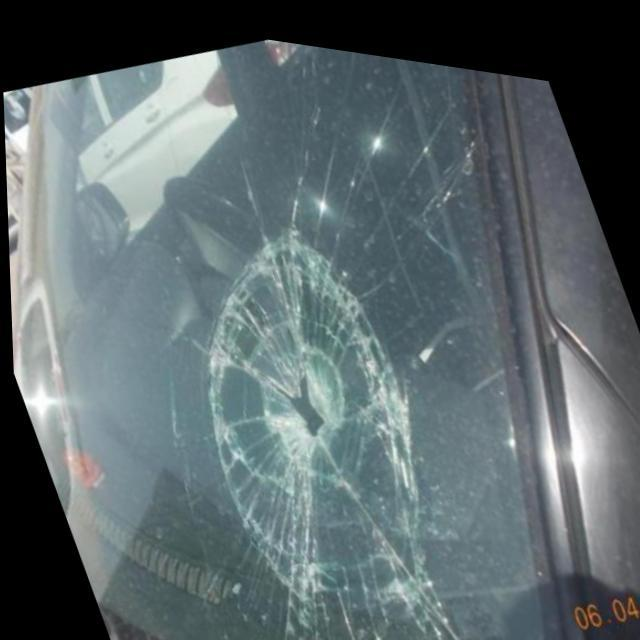glass shatter: (206, 223, 421, 603)
